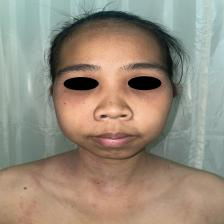DA: (15, 192, 58, 224)
